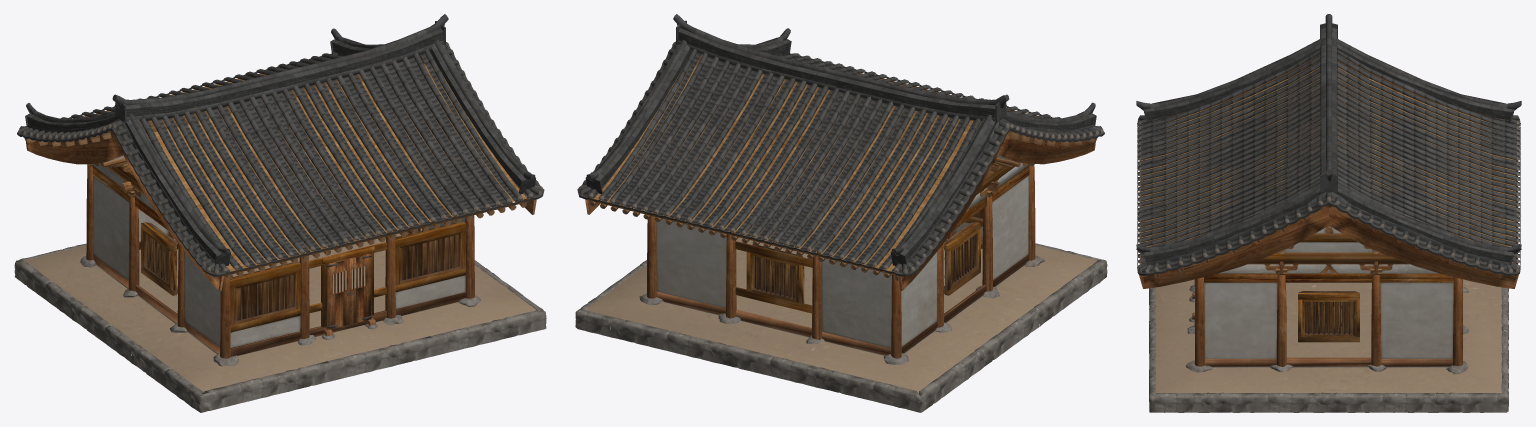
Rendered from anchae.glb.
3 views of the same model, side by side, from view 1: azimuth 30°, elevation 25°; view 2: azimuth 150°, elevation 25°; view 3: azimuth 270°, elevation 25° (orthographic). The views are drawn at different scales.
Parts seen in each view (by area): view 1: SM_24ET0024_Roof02_M_24ET0024_Roof01_0, SM_24ET0024_Roof02_M_24ET0024_Roof02_0, SM_24ET0024_Floor_M_24ET0024_Floor_0, SM_24ET0024_Stereobate_M_24ET0024_Stereobate_0, SM_24ET0024_Wood03_M_24ET0024_Wood03_0, SM_24ET0024_Roof03_M_24ET0024_Roof03_0, SM_24ET0024_Roof01_M_24ET0024_Roof03_0, SM_24ET0024_Wall01_M_24ET0024_Wall01_0, SM_24ET0024_Window01_M_24ET0024_Window01_0, SM_24ET0024_Pillar_M_24ET0024_Pillar_0, SM_24ET0024_Wallwood01_M_24ET0024_Wallwood01_0, SM_24ET0024_Bakgong_M_24ET0024_Bakgong_0 (+10 smaller); view 2: SM_24ET0024_Roof02_M_24ET0024_Roof01_0, SM_24ET0024_Roof02_M_24ET0024_Roof02_0, SM_24ET0024_Floor_M_24ET0024_Floor_0, SM_24ET0024_Stereobate_M_24ET0024_Stereobate_0, SM_24ET0024_Wall01_M_24ET0024_Wall01_0, SM_24ET0024_Wood03_M_24ET0024_Wood03_0, SM_24ET0024_Roof03_M_24ET0024_Roof03_0, SM_24ET0024_Roof01_M_24ET0024_Roof03_0, SM_24ET0024_Pillar_M_24ET0024_Pillar_0, SM_24ET0024_Wall02_M_24ET0024_Wall02_0, SM_24ET0024_Window02_M_24ET0024_Window02_0, SM_24ET0024_Wallwood03_M_24ET0024_Wallwood03_0 (+7 smaller); view 3: SM_24ET0024_Roof02_M_24ET0024_Roof01_0, SM_24ET0024_Floor_M_24ET0024_Floor_0, SM_24ET0024_Wall02_M_24ET0024_Wall02_0, SM_24ET0024_Roof03_M_24ET0024_Roof03_0, SM_24ET0024_Stereobate_M_24ET0024_Stereobate_0, SM_24ET0024_Wood03_M_24ET0024_Wood03_0, SM_24ET0024_Bakgong_M_24ET0024_Bakgong_0, SM_24ET0024_Roof02_M_24ET0024_Roof02_0, SM_24ET0024_Pillar_M_24ET0024_Pillar_0, SM_24ET0024_Window02_M_24ET0024_Window02_0, SM_24ET0024_Roof01_M_24ET0024_Roof03_0, SM_24ET0024_Roof04_M_24ET0024_Roof01_0 (+8 smaller).
Part boxes in pixels (box(x1,y1,x2,y2)): SM_24ET0024_Roof02_M_24ET0024_Roof01_0: box(60, 49, 533, 273); SM_24ET0024_Roof02_M_24ET0024_Roof02_0: box(69, 53, 530, 272); SM_24ET0024_Floor_M_24ET0024_Floor_0: box(23, 228, 536, 391); SM_24ET0024_Stereobate_M_24ET0024_Stereobate_0: box(14, 243, 546, 412); SM_24ET0024_Wood03_M_24ET0024_Wood03_0: box(85, 63, 532, 275); SM_24ET0024_Roof03_M_24ET0024_Roof03_0: box(25, 28, 535, 265); SM_24ET0024_Roof01_M_24ET0024_Roof03_0: box(112, 14, 448, 122); SM_24ET0024_Wall01_M_24ET0024_Wall01_0: box(93, 171, 300, 347); SM_24ET0024_Window01_M_24ET0024_Window01_0: box(230, 221, 466, 325); SM_24ET0024_Pillar_M_24ET0024_Pillar_0: box(86, 165, 474, 358); SM_24ET0024_Wallwood01_M_24ET0024_Wallwood01_0: box(230, 223, 466, 332); SM_24ET0024_Bakgong_M_24ET0024_Bakgong_0: box(24, 55, 536, 291); SM_24ET0024_Roof02_M_24ET0024_Roof01_0: box(588, 44, 1061, 273); SM_24ET0024_Roof02_M_24ET0024_Roof02_0: box(591, 53, 1053, 271); SM_24ET0024_Floor_M_24ET0024_Floor_0: box(585, 237, 1097, 393); SM_24ET0024_Stereobate_M_24ET0024_Stereobate_0: box(575, 243, 1107, 412); SM_24ET0024_Wall01_M_24ET0024_Wall01_0: box(821, 170, 1028, 348); SM_24ET0024_Wood03_M_24ET0024_Wood03_0: box(588, 63, 1036, 275); SM_24ET0024_Roof03_M_24ET0024_Roof03_0: box(585, 28, 1096, 265); SM_24ET0024_Roof01_M_24ET0024_Roof03_0: box(673, 14, 1009, 122); SM_24ET0024_Pillar_M_24ET0024_Pillar_0: box(647, 165, 1035, 358); SM_24ET0024_Wall02_M_24ET0024_Wall02_0: box(656, 215, 726, 308); SM_24ET0024_Window02_M_24ET0024_Window02_0: box(746, 222, 980, 304); SM_24ET0024_Wallwood03_M_24ET0024_Wallwood03_0: box(656, 241, 1028, 355); SM_24ET0024_Roof02_M_24ET0024_Roof01_0: box(1137, 49, 1520, 268); SM_24ET0024_Floor_M_24ET0024_Floor_0: box(1155, 279, 1502, 393); SM_24ET0024_Wall02_M_24ET0024_Wall02_0: box(1204, 227, 1453, 358); SM_24ET0024_Roof03_M_24ET0024_Roof03_0: box(1136, 38, 1521, 265); SM_24ET0024_Stereobate_M_24ET0024_Stereobate_0: box(1149, 287, 1508, 412); SM_24ET0024_Wood03_M_24ET0024_Wood03_0: box(1140, 67, 1517, 263); SM_24ET0024_Bakgong_M_24ET0024_Bakgong_0: box(1139, 57, 1518, 288); SM_24ET0024_Roof02_M_24ET0024_Roof02_0: box(1137, 54, 1520, 266); SM_24ET0024_Pillar_M_24ET0024_Pillar_0: box(1194, 275, 1462, 366); SM_24ET0024_Window02_M_24ET0024_Window02_0: box(1298, 291, 1359, 342); SM_24ET0024_Roof01_M_24ET0024_Roof03_0: box(1320, 14, 1337, 192); SM_24ET0024_Roof04_M_24ET0024_Roof01_0: box(1137, 115, 1520, 275).
Size of the model in its own units: 11.11 by 7.58 by 11.05.
Materials: 28 (28 with a texture image).
